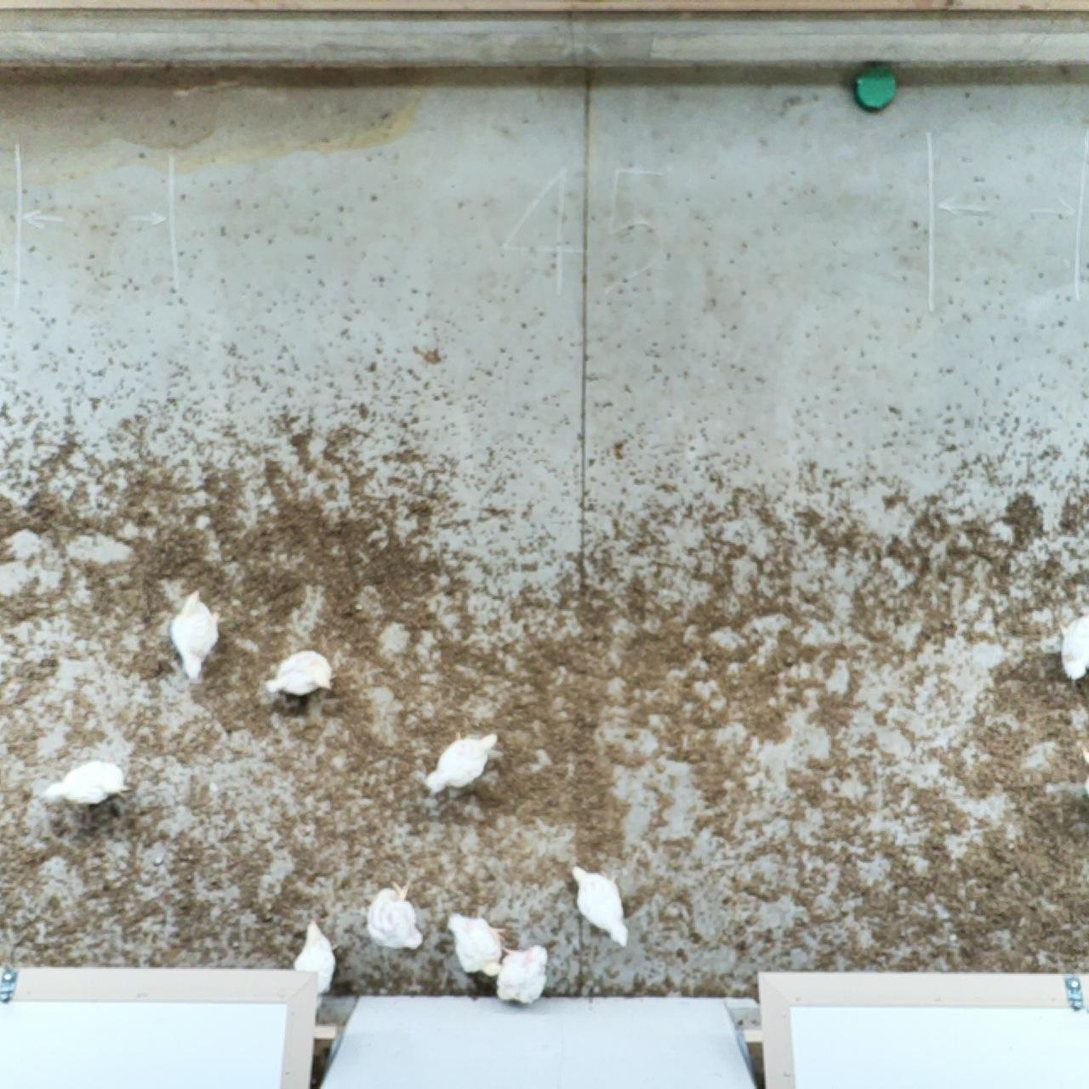chicken: (171, 588, 222, 681), (571, 864, 630, 944), (445, 907, 508, 981), (293, 910, 345, 995), (425, 732, 498, 790), (366, 878, 423, 947), (45, 763, 129, 807), (494, 943, 553, 1001), (266, 651, 334, 697)
